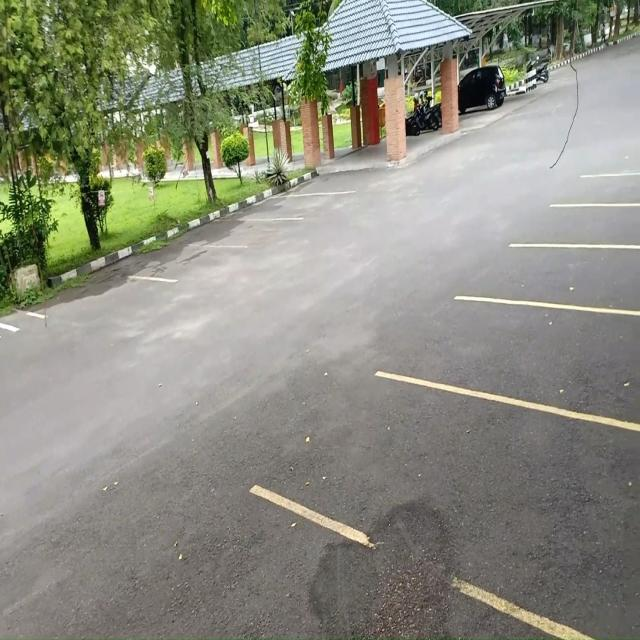empty: (414, 396, 640, 633), (465, 303, 640, 414), (512, 244, 640, 315), (551, 202, 640, 248), (121, 240, 202, 283), (194, 217, 266, 250), (248, 193, 319, 221)
